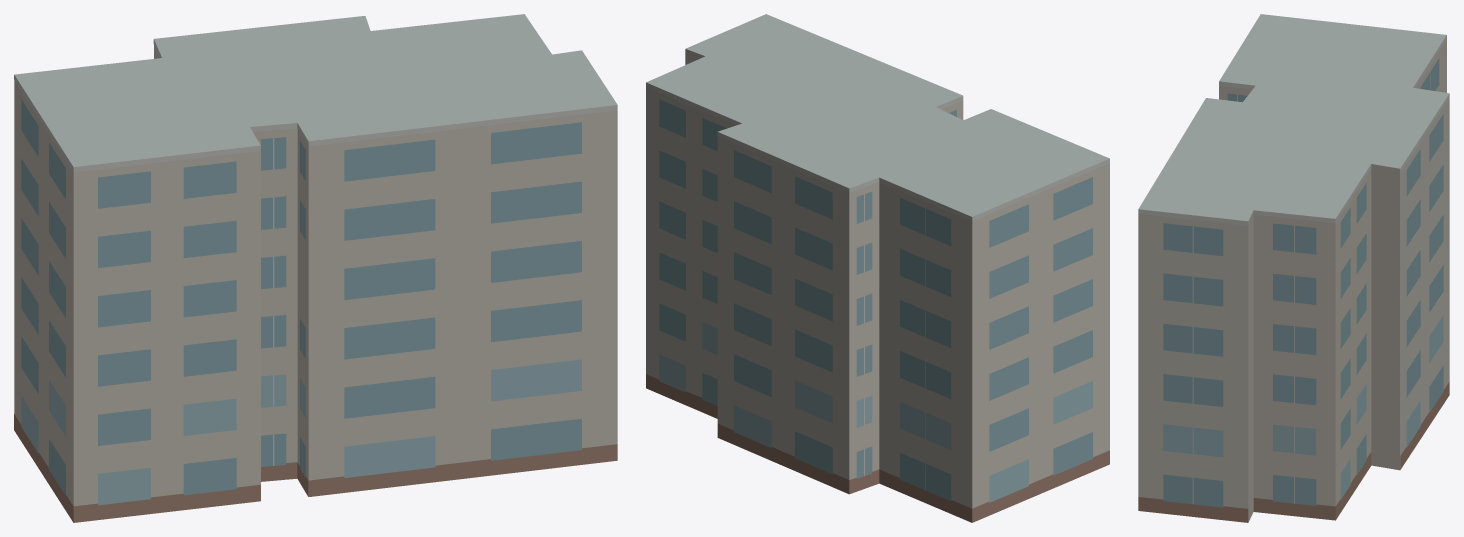
The model's file is survey-upis-32739935.glb.
3 views of the same model, side by side, from view 1: azimuth 30°, elevation 25°; view 2: azimuth 150°, elevation 25°; view 3: azimuth 270°, elevation 25° (orthographic). The views are drawn at different scales.
Visible parts, largest first — view 1: survey-upis-32739935.tmp; view 2: survey-upis-32739935.tmp; view 3: survey-upis-32739935.tmp.
Part boxes in pixels (x1=…): survey-upis-32739935.tmp: x1=14, y1=14, x2=617, y2=522; survey-upis-32739935.tmp: x1=646, y1=14, x2=1109, y2=522; survey-upis-32739935.tmp: x1=1138, y1=14, x2=1449, y2=522.
Size of the model in its own units: 24.4 by 16.55 by 15.5.
